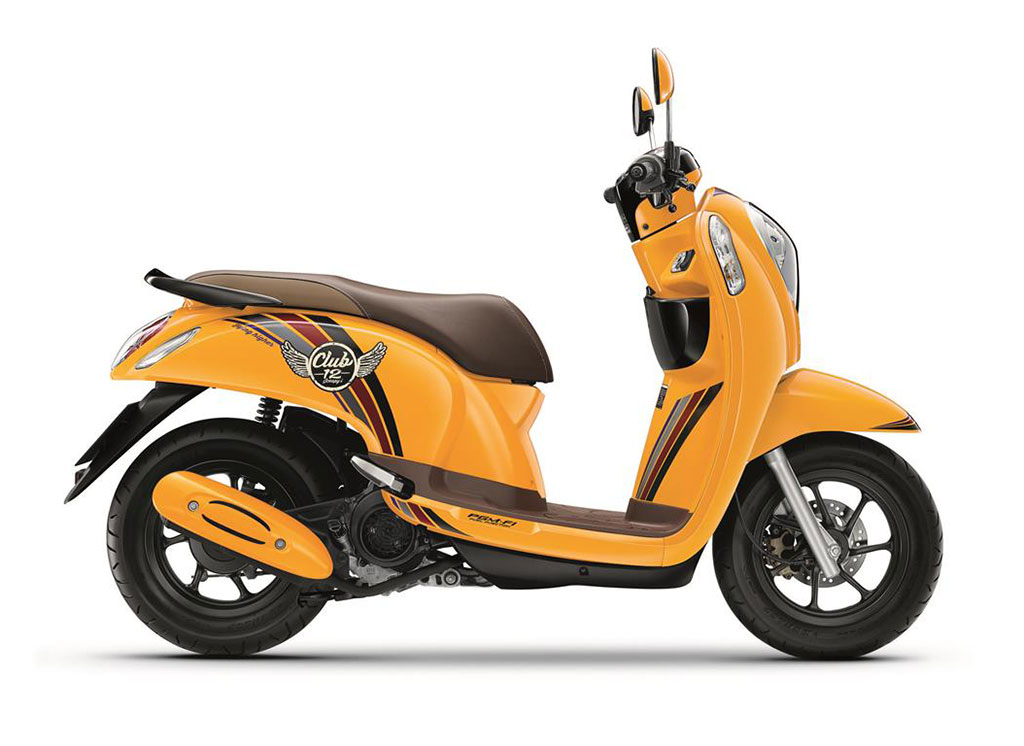motorcycle: (62, 43, 944, 662)
